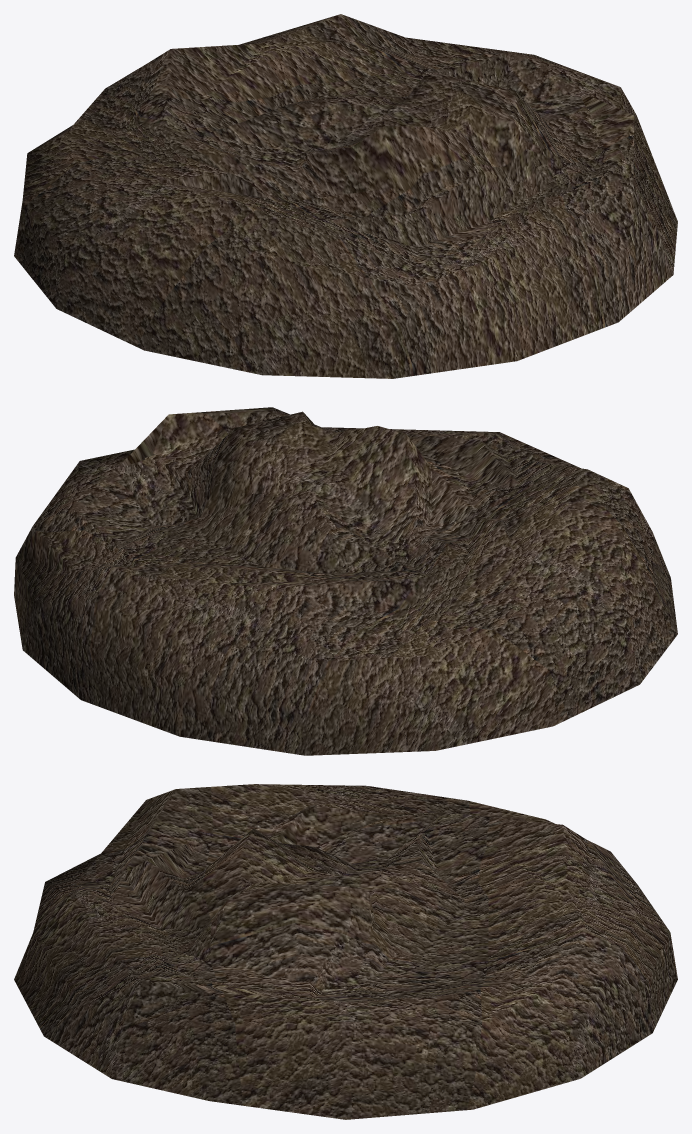
File: mancru.fbx
The picture shows the model from 3 angles, top to bottom: view 1: azimuth 30°, elevation 25°; view 2: azimuth 150°, elevation 25°; view 3: azimuth 270°, elevation 25°; orthographic projection.
Visible parts, largest first — view 1: pSphere6; view 2: pSphere6; view 3: pSphere6.
Part boxes in pixels (box(x1,y1,x2,y2)): pSphere6: box(14, 14, 677, 378); pSphere6: box(14, 407, 677, 755); pSphere6: box(14, 784, 677, 1119).
Bounding box in the file's own units: 200 × 49.05 × 200.
